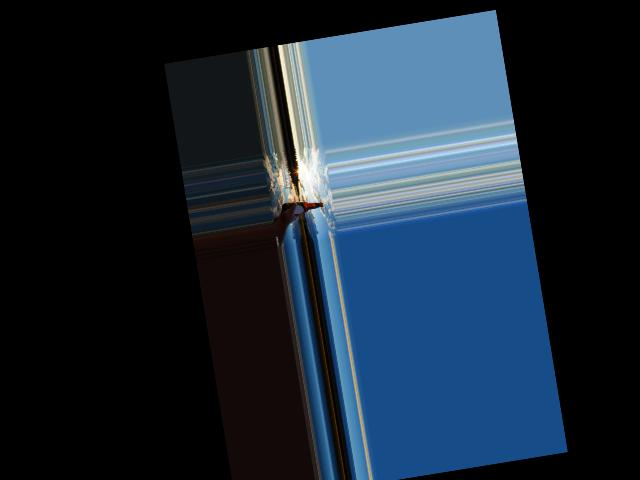beer: (283, 196, 324, 216)
